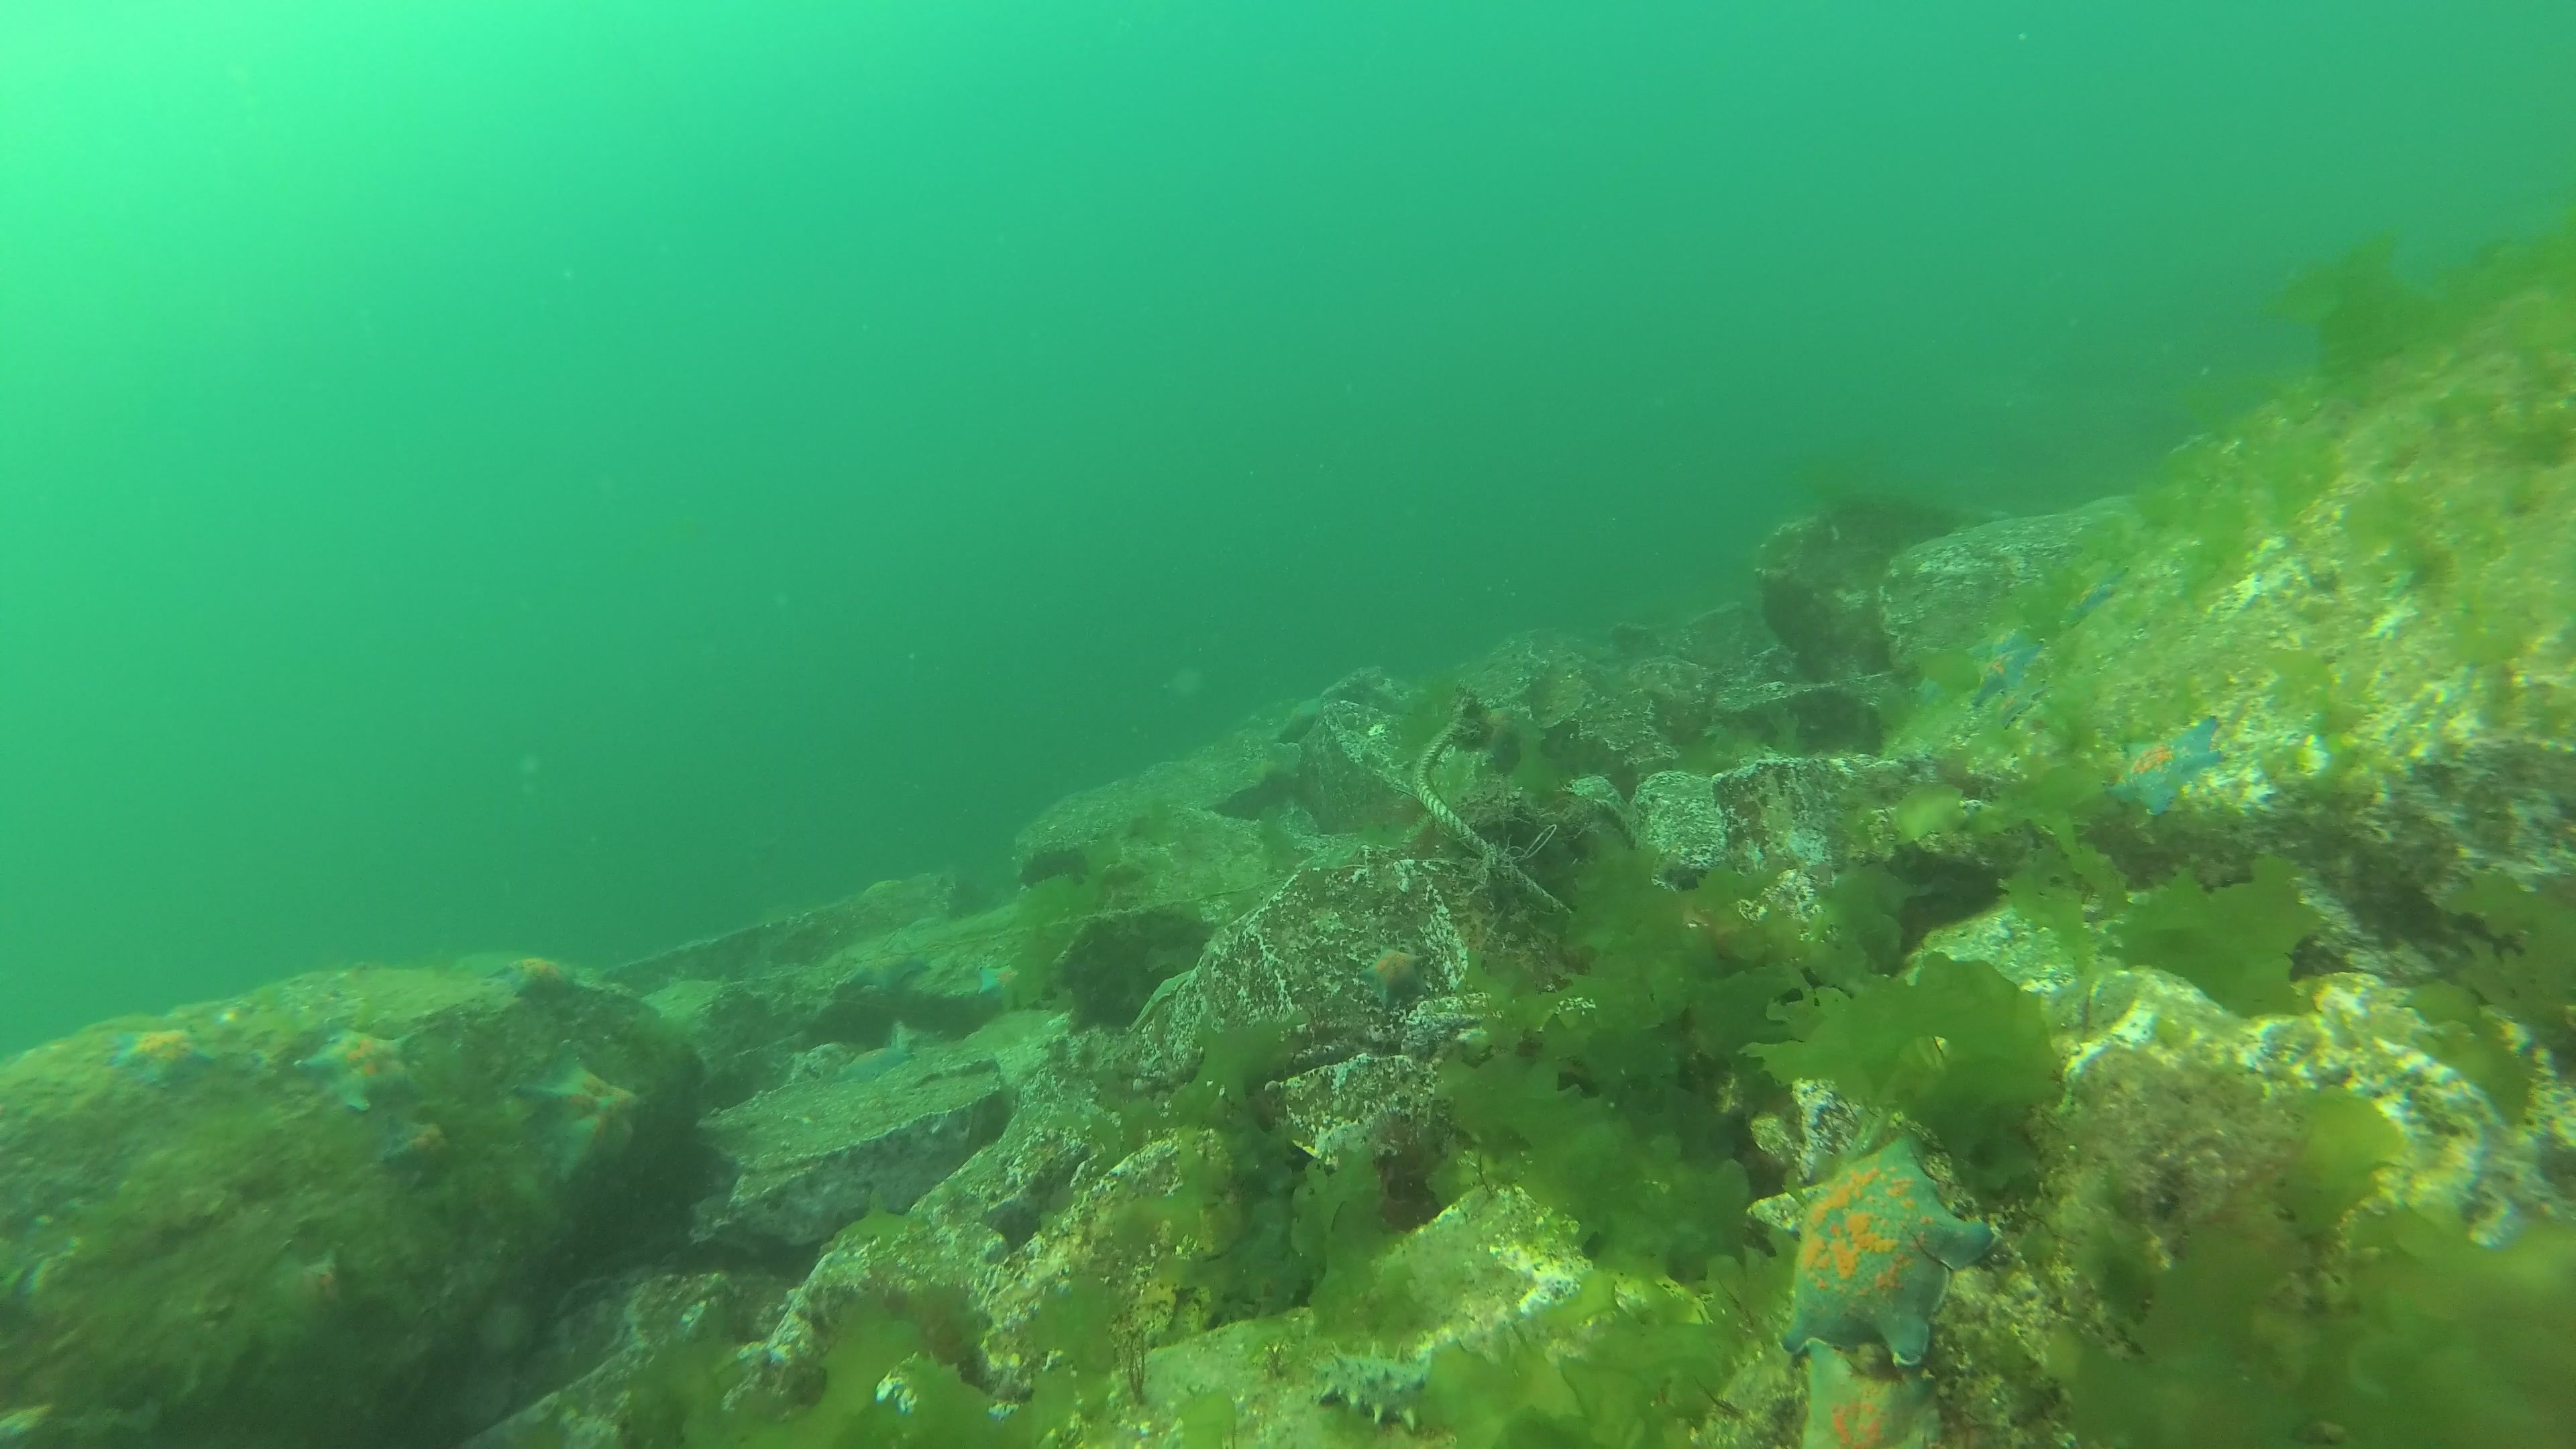holothurian: (1309, 1339, 1456, 1433)
starfish: (1776, 1131, 2006, 1366), (508, 1058, 655, 1182), (1801, 1338, 1950, 1449), (2102, 711, 2224, 817), (294, 1019, 428, 1115), (103, 1024, 226, 1088), (274, 1240, 352, 1322), (1357, 941, 1438, 1014), (832, 941, 932, 994), (485, 954, 589, 1003), (1971, 639, 2043, 709), (2054, 568, 2127, 632), (828, 1044, 918, 1090), (971, 952, 1035, 998), (1999, 686, 2051, 731), (1909, 674, 1946, 708)
